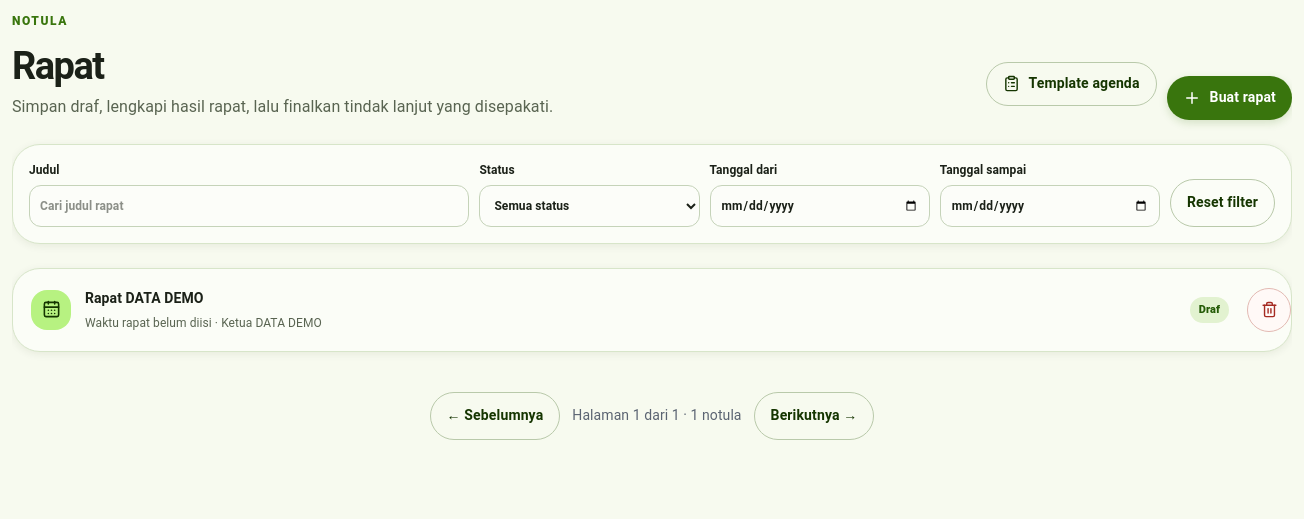
Test: aksi hapus draf pada daftar rapat › mengirim versi daftar ke RPC lalu menghapus draf dari daftar
Click the button named "Hapus notula Rapat DATA DEMO" at (1269, 310), box [1247,288,1291,332]
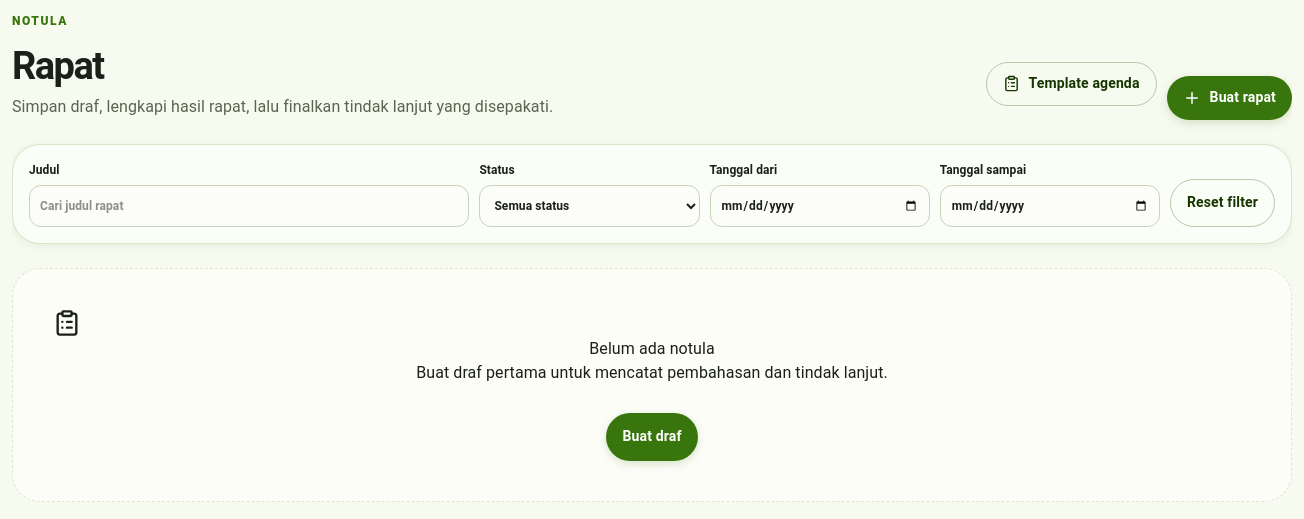
Result: the link "Rapat DATA DEMO" is gone
